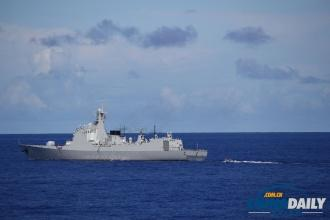warship: (11, 98, 213, 161)
